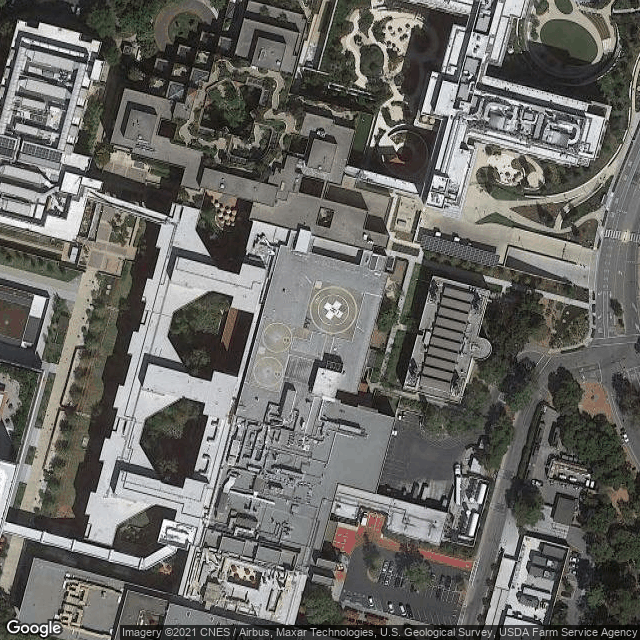Helipad: (307, 280, 359, 337)
